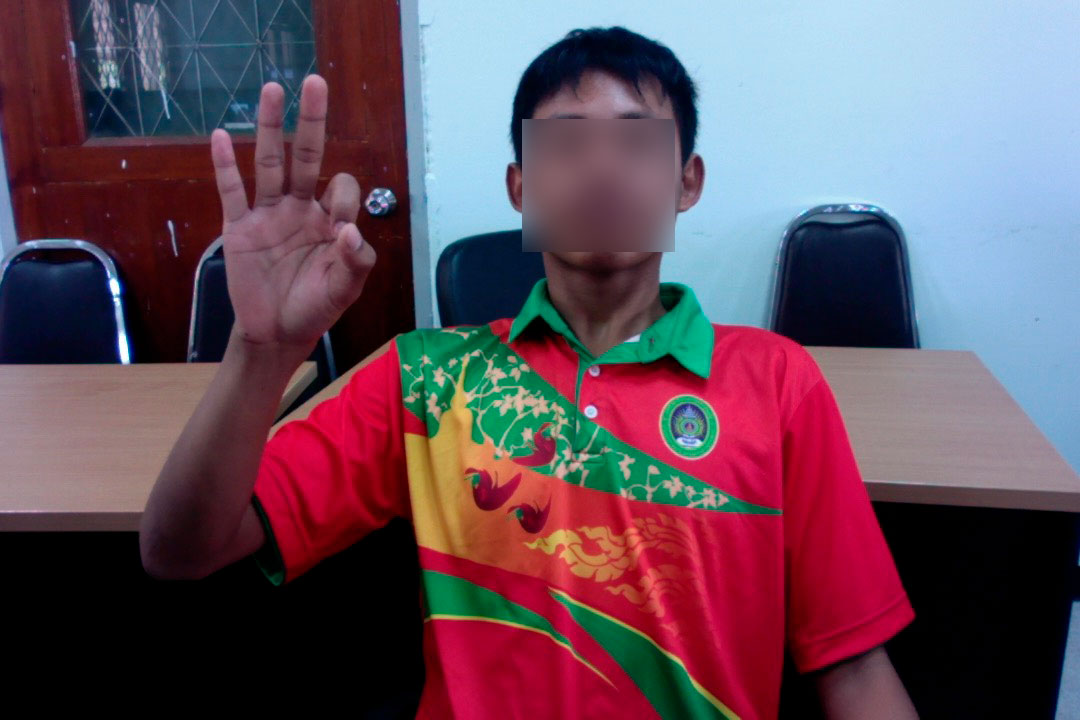for: (197, 64, 385, 361)
